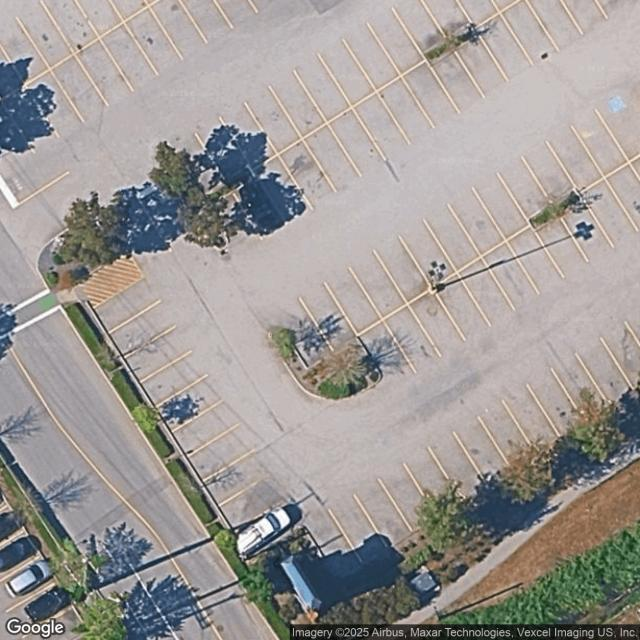car: (230, 502, 295, 562)
lot_boundary: (0, 0, 639, 586)
objects: (45, 210, 144, 311), (265, 325, 383, 401), (530, 187, 584, 233), (425, 21, 479, 67)
stall: (298, 511, 363, 585), (350, 252, 408, 319), (383, 304, 441, 371), (506, 226, 564, 293), (481, 241, 539, 308), (457, 256, 515, 323), (474, 173, 532, 240), (449, 188, 507, 255), (400, 220, 458, 287), (424, 205, 482, 272), (301, 283, 359, 350), (358, 320, 416, 387), (325, 268, 383, 335), (329, 495, 387, 562), (378, 463, 436, 530), (403, 446, 461, 513), (576, 337, 634, 404), (551, 353, 609, 420), (501, 383, 559, 450), (452, 414, 510, 481), (352, 92, 410, 159), (377, 76, 435, 143), (580, 179, 638, 246), (547, 125, 605, 192), (253, 156, 311, 223), (278, 139, 336, 206), (302, 123, 360, 190), (328, 107, 386, 174), (319, 40, 377, 107), (294, 55, 352, 122), (219, 103, 277, 170), (245, 87, 303, 154), (269, 71, 327, 138), (99, 23, 157, 90), (171, 134, 229, 201), (403, 61, 461, 128), (409, 289, 467, 356), (433, 273, 491, 340), (0, 85, 58, 152), (25, 70, 83, 137), (17, 2, 75, 69), (374, 237, 432, 304), (110, 300, 177, 358), (170, 399, 238, 456), (92, 275, 160, 332), (526, 368, 584, 434), (571, 110, 629, 176), (369, 9, 427, 75), (195, 119, 253, 185), (126, 325, 192, 383), (355, 479, 412, 546), (428, 430, 485, 497), (477, 398, 534, 465), (204, 187, 261, 254), (228, 171, 285, 238), (344, 25, 401, 92), (75, 38, 132, 105), (476, 14, 533, 81), (217, 476, 284, 533), (201, 450, 269, 506), (276, 300, 333, 366), (125, 7, 182, 73), (51, 55, 108, 121), (501, 0, 558, 66), (141, 350, 208, 406), (156, 375, 223, 431), (186, 424, 253, 480), (235, 502, 302, 558), (148, 0, 206, 60), (499, 158, 552, 220), (597, 84, 639, 162), (0, 20, 50, 85), (561, 202, 613, 262), (41, 0, 98, 54), (456, 38, 508, 97), (523, 142, 574, 202), (434, 52, 485, 112), (537, 219, 588, 276), (527, 0, 582, 51), (395, 0, 446, 53), (602, 321, 639, 390), (605, 162, 639, 232), (422, 1, 471, 39), (78, 0, 124, 37)
